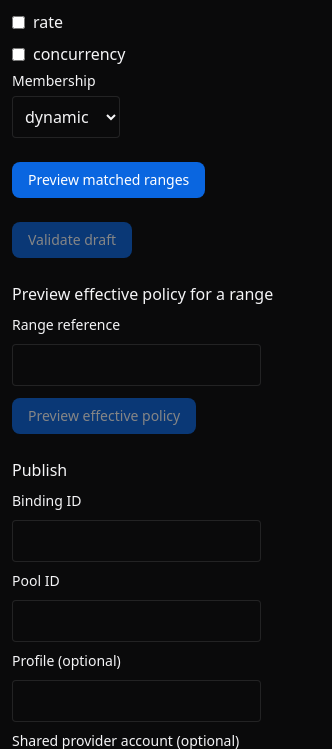
Scenario: ModelAccessSharing › previews effective policy conflicts for a subject range
(page scrolled)
Type "range:abc" into the field labelled "Range reference" at (136, 365), box [12,344,261,386]
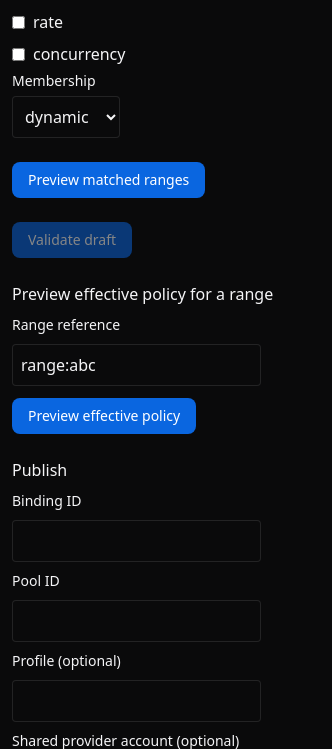
Click the button "Preview effective policy" at (104, 416), box [12,398,196,434]
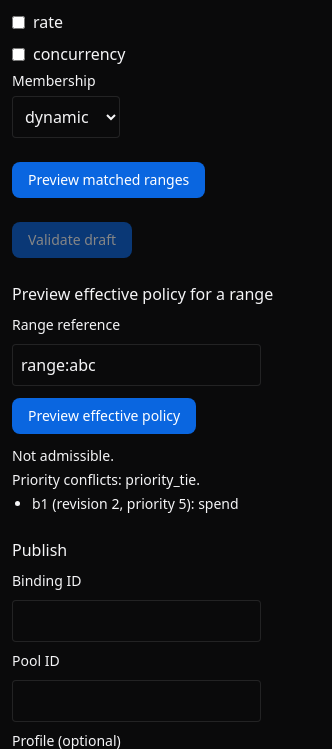
expect the text "Priority conflicts: priority_tie." is shown: met, box [12,470,200,489]
